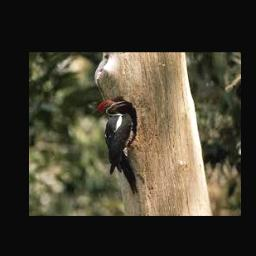Woodpecker: (98, 100, 138, 194)
